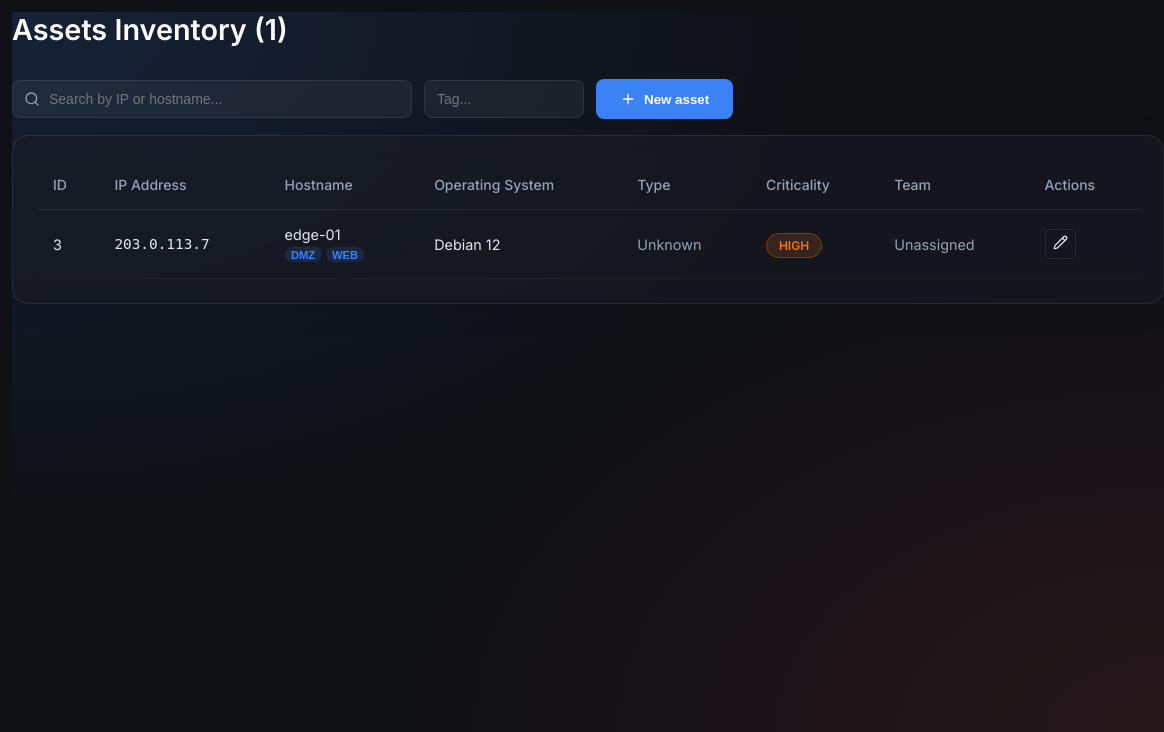
Test: AssetsList — tags › filters on a tag clicked in the list
Click the button "dmz".
click(303, 255)  # box [284,247,322,262]
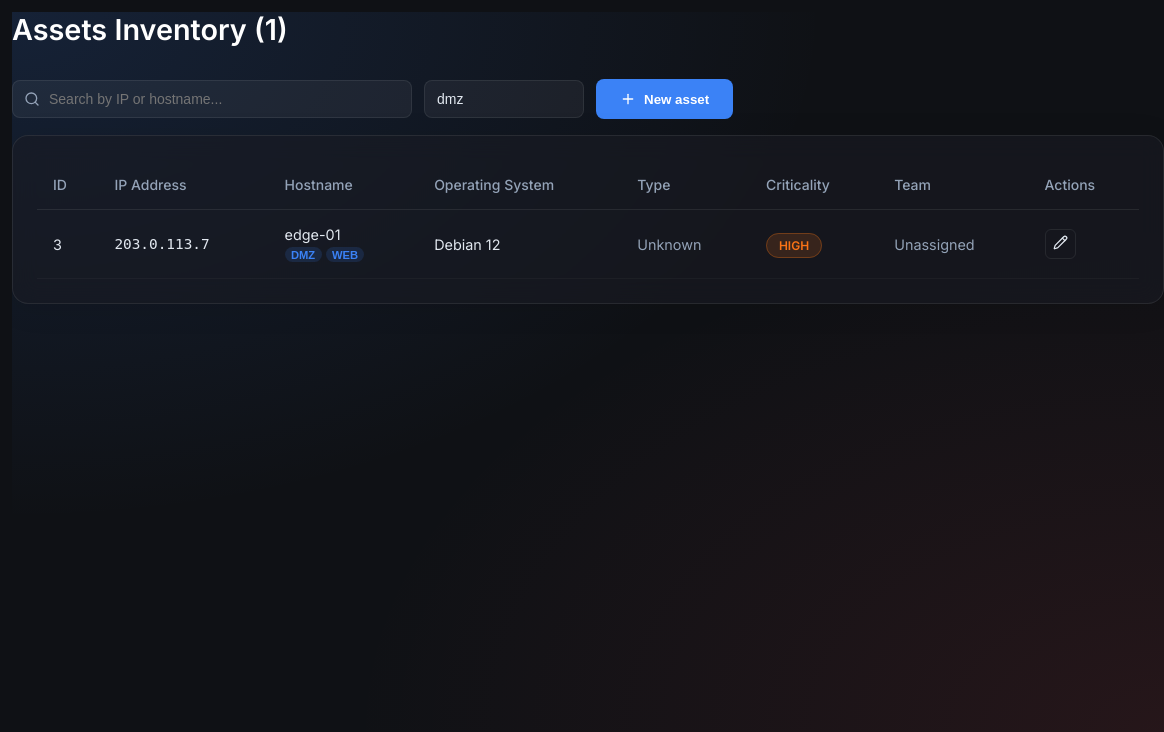
Check: the search field named "Filter by tag" holds "dmz", box [424,80,584,118]
